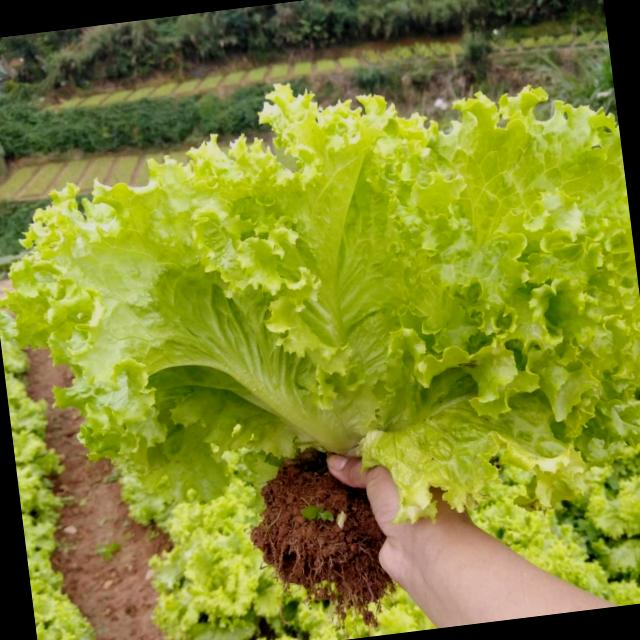lista_para_cosechar: (8, 85, 640, 520)
